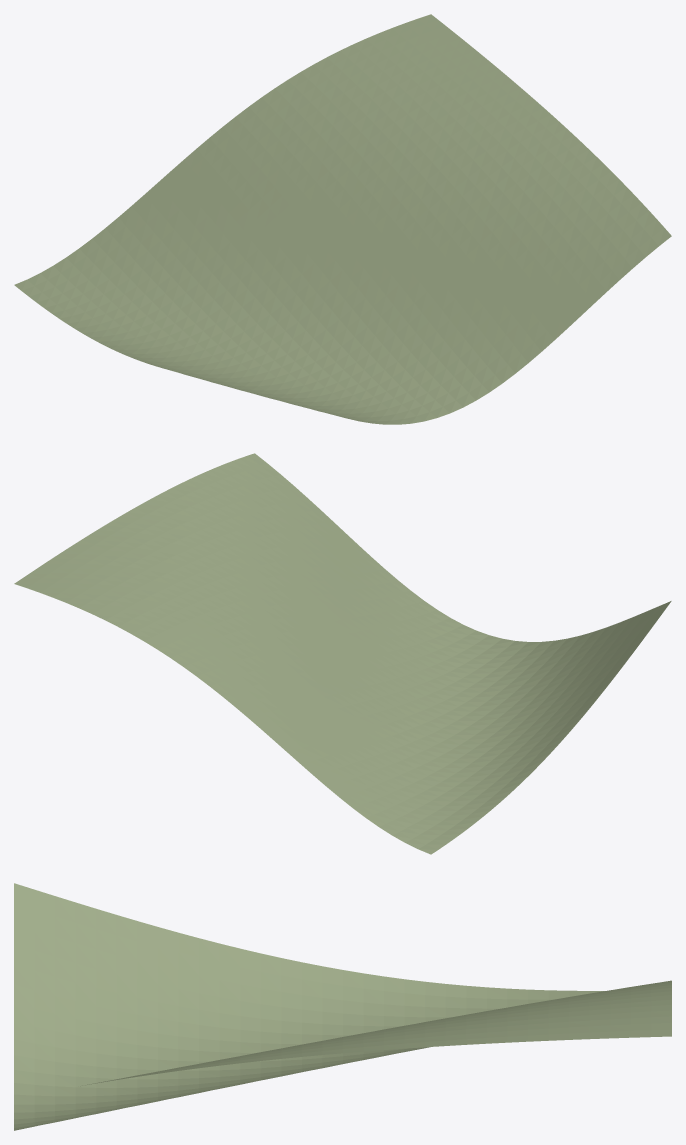
The model's file is expanse-14-29.glb.
3 renders of one model, top to bottom at view 1: azimuth 30°, elevation 25°; view 2: azimuth 150°, elevation 25°; view 3: azimuth 270°, elevation 25°, orthographic. The views are drawn at different scales.
Visible parts, largest first — view 1: expanse-14-29; view 2: expanse-14-29; view 3: expanse-14-29.
Part boxes in pixels (x1=…): expanse-14-29: x1=14, y1=14, x2=671, y2=424; expanse-14-29: x1=14, y1=453, x2=671, y2=854; expanse-14-29: x1=14, y1=883, x2=671, y2=1130.
Size of the model in its own units: 256 by 100 by 256.
